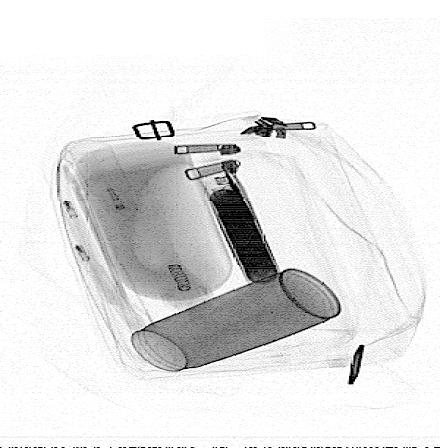Powerbank: (188, 157, 283, 290)
